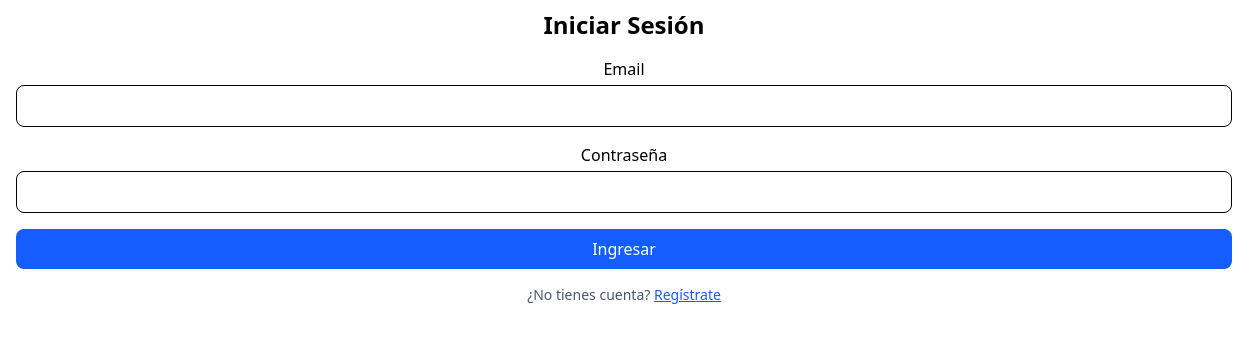
Scenario: LoginForm › Muestra mensaje de error con credenciales incorrectas
The image size is (1249, 357).
Type "usuario@test.com" into the field labelled "Email" at {"x": 624, "y": 106}, box [16, 85, 1232, 127]
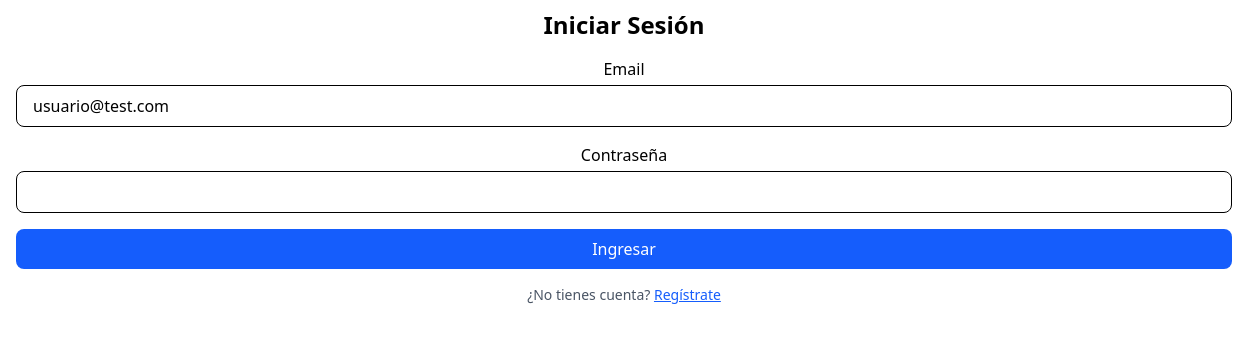
Type "password123" into the password field labelled "Contraseña" at {"x": 624, "y": 192}, box [16, 171, 1232, 213]
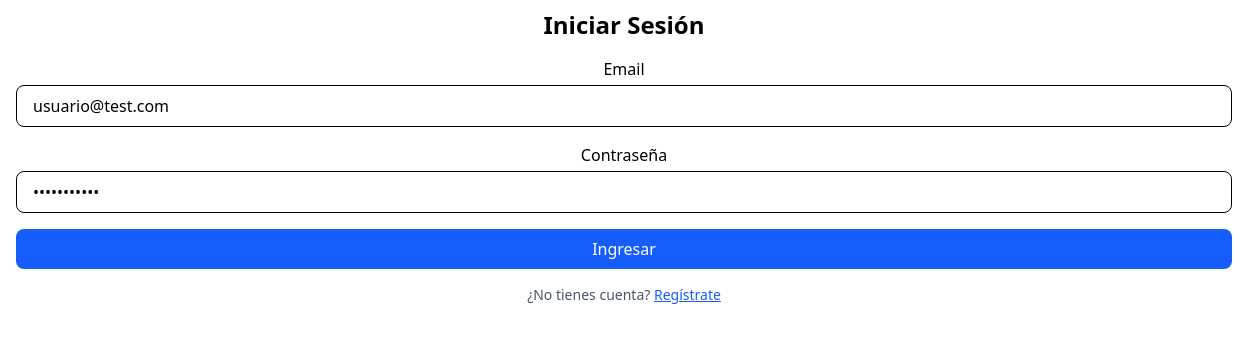
Click the button "Ingresar" at {"x": 624, "y": 249}, box [16, 229, 1232, 269]
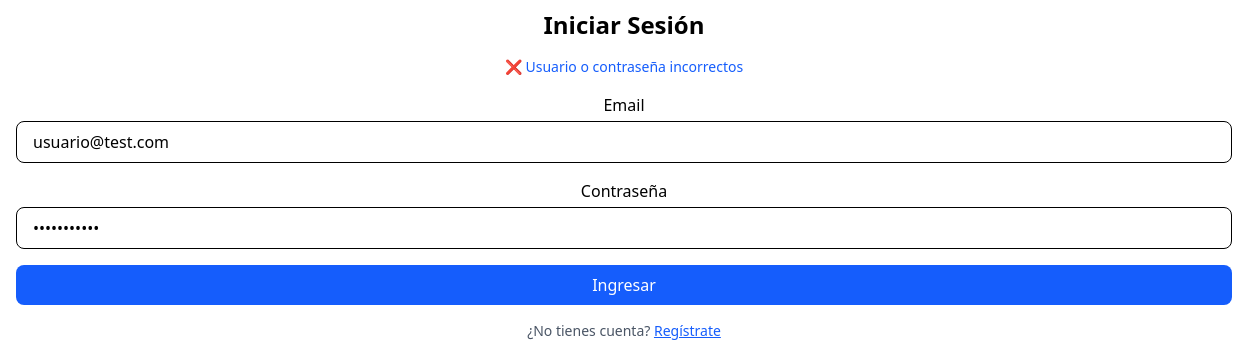
Result: the text "❌ Usuario o contraseña incorrectos" is shown at [505, 57, 743, 76]
